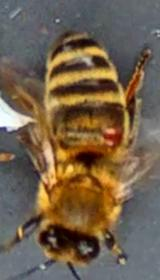varroa_mite: (94, 112, 134, 162)
